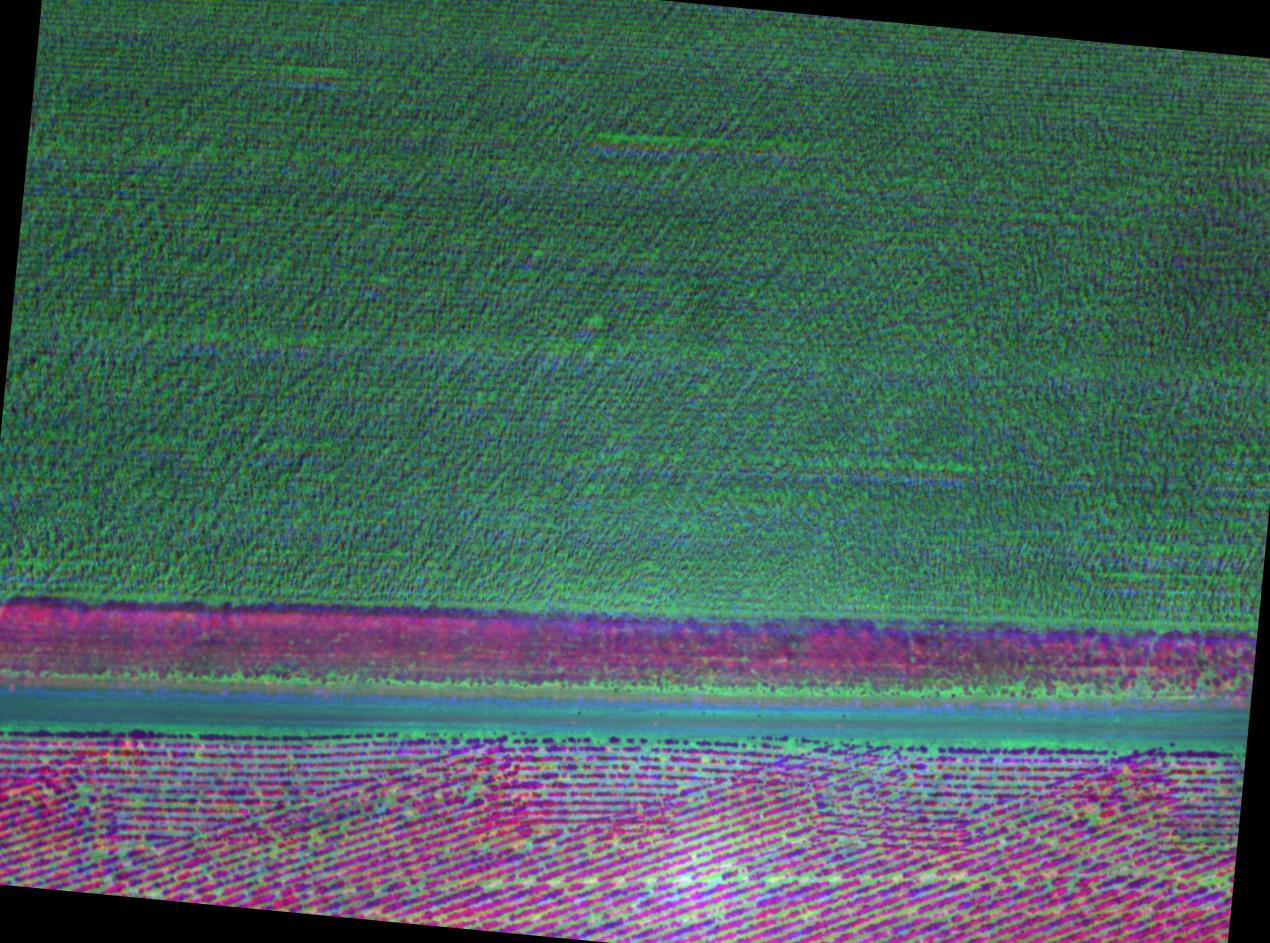dc: (805, 873, 813, 883), (1088, 807, 1096, 816), (340, 821, 348, 829), (310, 831, 318, 839), (385, 798, 394, 805), (485, 881, 492, 890), (527, 877, 534, 885), (553, 879, 560, 887)
